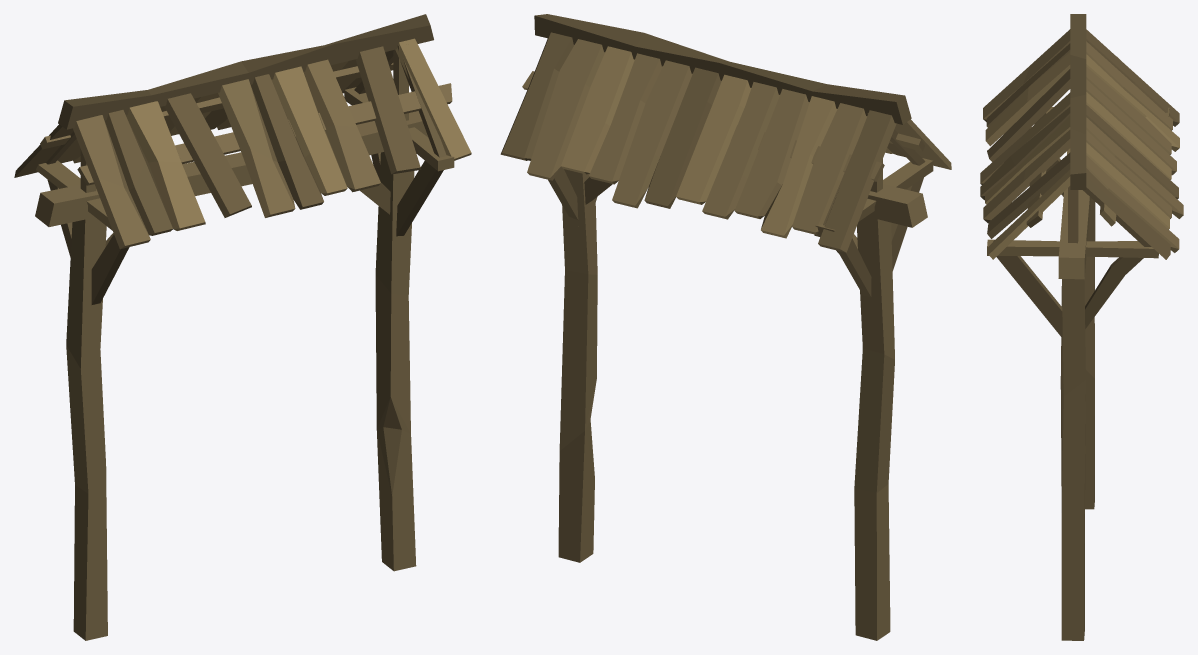
Rendered from Gates_1.fbx.
3 views of the same model, side by side, from view 1: azimuth 30°, elevation 25°; view 2: azimuth 150°, elevation 25°; view 3: azimuth 270°, elevation 25° (orthographic). The views are drawn at different scales.
Visible parts, largest first — view 1: Gates_1; view 2: Gates_1; view 3: Gates_1.
Boxes of the visible parts, x1,y1,x2,y2 form: Gates_1: [14, 14, 471, 640]; Gates_1: [500, 14, 951, 640]; Gates_1: [980, 14, 1183, 640].
Bounding box in the file's own units: 277 × 357 × 137.
